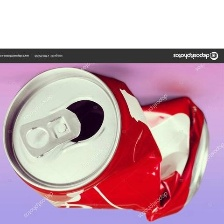can: (1, 64, 210, 223)
